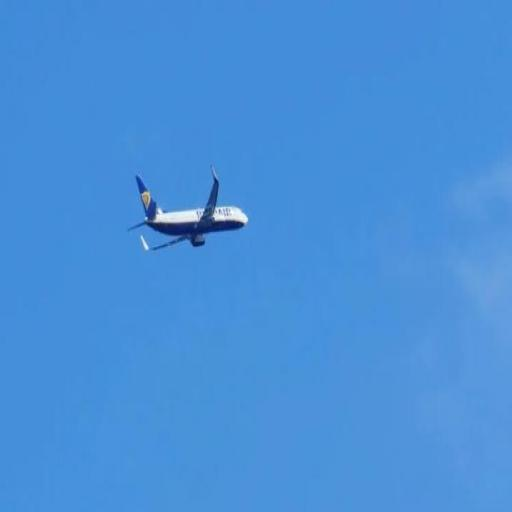aircraft: (127, 164, 249, 252)
